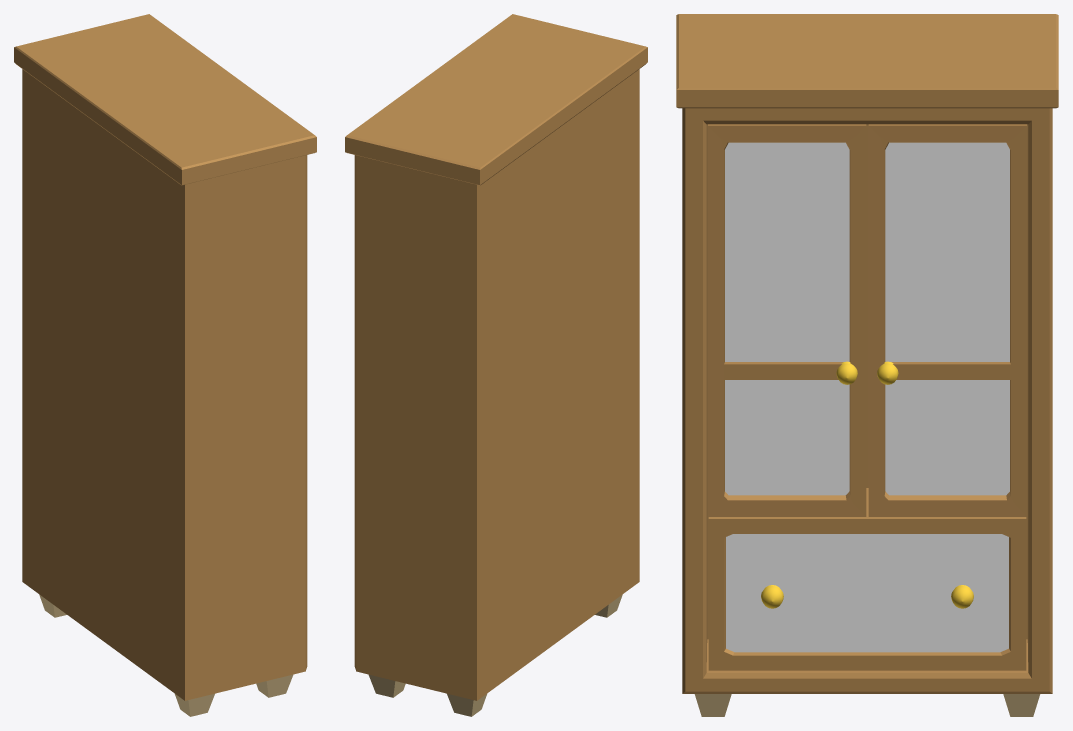
The model's file is dish_cabinet.fbx.
3 renders of one model, left to right at view 1: azimuth 30°, elevation 25°; view 2: azimuth 150°, elevation 25°; view 3: azimuth 270°, elevation 25°, orthographic. The views are drawn at different scales.
Visible parts, largest first — view 1: Cube; view 2: Cube; view 3: Cube.
Part boxes in pixels (x1,y1,x2,y2): Cube: [14, 14, 316, 716]; Cube: [345, 14, 647, 716]; Cube: [676, 14, 1058, 716].
Size of the model in its own units: 282 by 1097 by 594.
